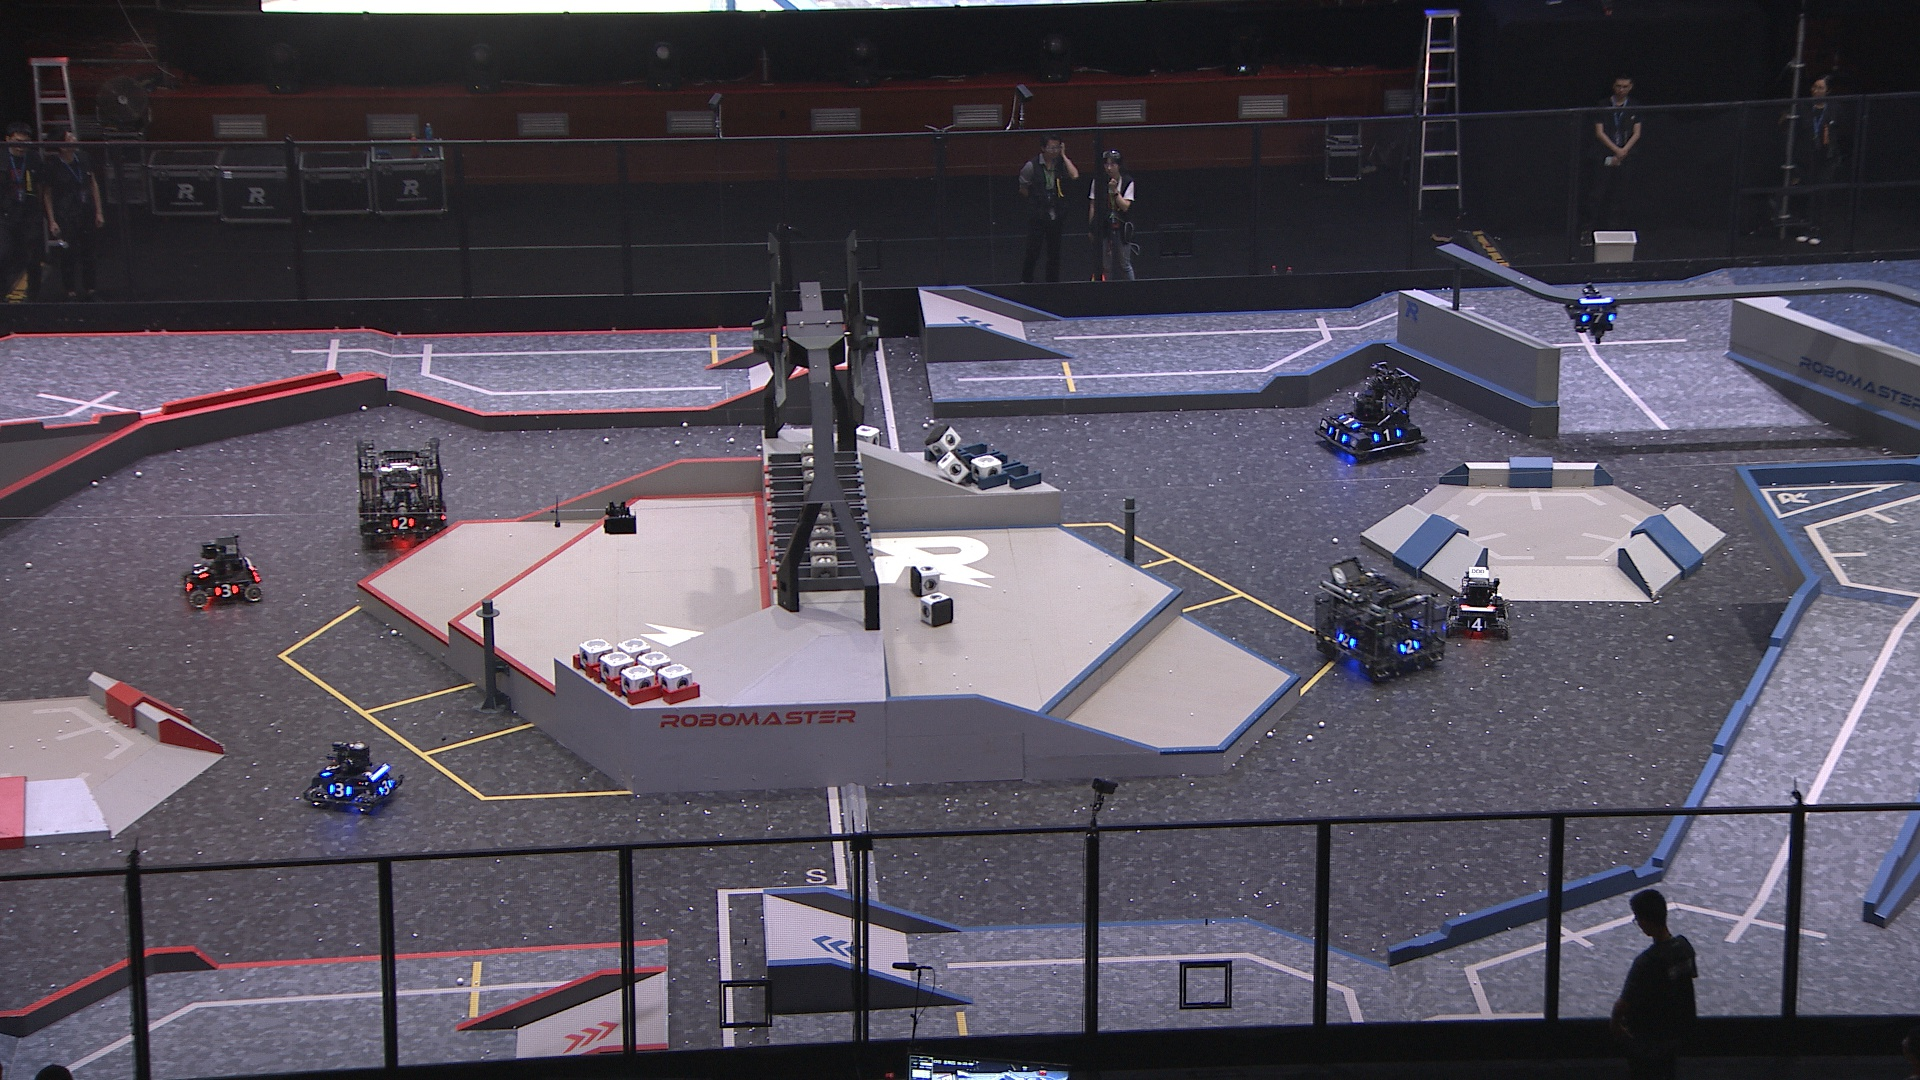armor: (1578, 309, 1614, 324), (212, 580, 239, 600), (327, 781, 353, 798), (1328, 425, 1348, 447), (320, 756, 339, 779), (1335, 632, 1356, 651), (1338, 414, 1361, 433), (1375, 429, 1403, 443), (191, 560, 210, 580), (386, 516, 414, 529), (1399, 638, 1422, 654), (1466, 617, 1487, 632), (378, 778, 392, 799)
car: (1311, 559, 1443, 680), (1317, 365, 1429, 465), (353, 436, 454, 547), (302, 741, 400, 815), (181, 533, 262, 607), (1443, 562, 1510, 638)
watcher: (1565, 285, 1618, 344)
